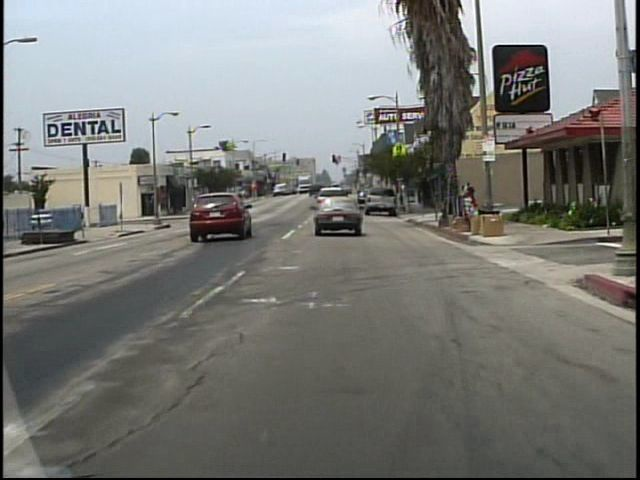person: (468, 181, 478, 212), (463, 183, 470, 208)
